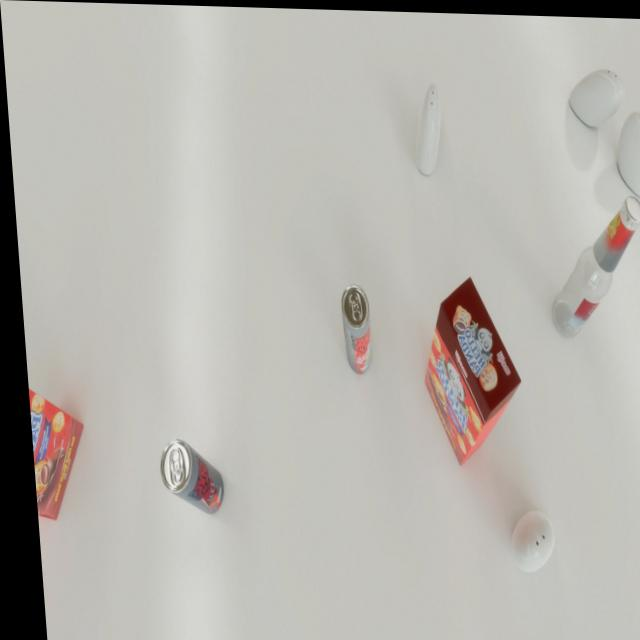Bottle: (540, 190, 640, 338)
HelloPanda: (413, 273, 521, 465)
Rita_zero_sugar: (151, 437, 218, 514), (335, 282, 369, 373)
Salt: (566, 64, 626, 124), (409, 80, 443, 173), (501, 507, 548, 570), (613, 107, 640, 194)
